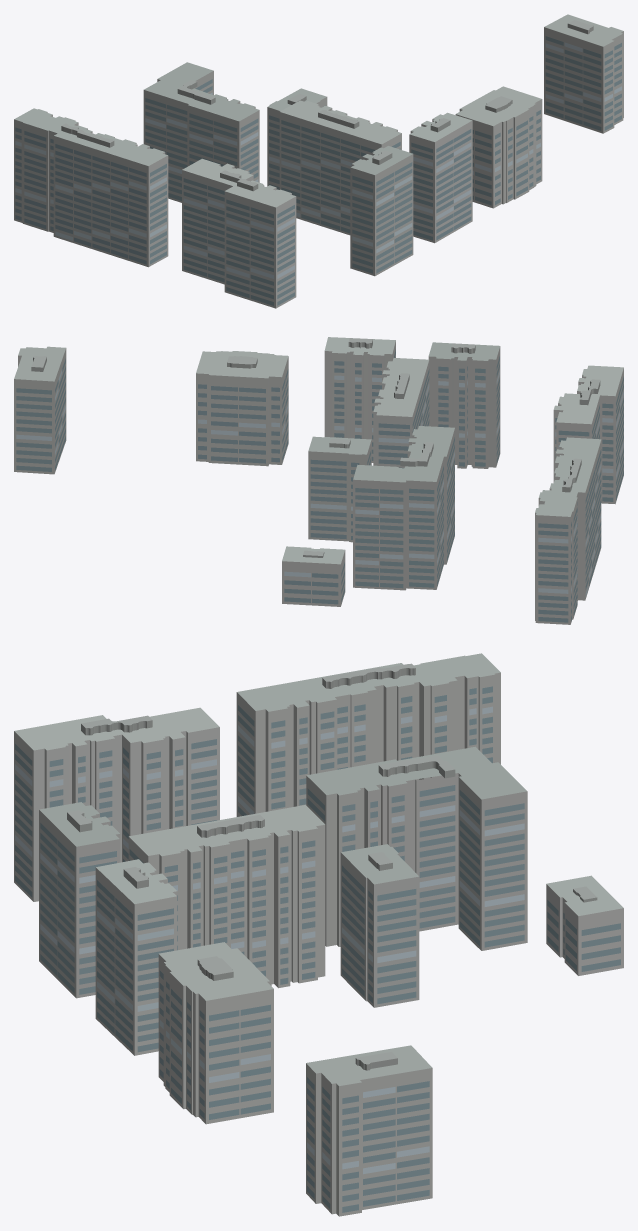
The model's file is apt-a13510103.glb.
3 views of the same model, one above another, from view 1: azimuth 30°, elevation 25°; view 2: azimuth 150°, elevation 25°; view 3: azimuth 270°, elevation 25° (orthographic). The views are drawn at different scales.
Parts seen in each view (by area): view 1: apt-a13510103; view 2: apt-a13510103; view 3: apt-a13510103.
Part boxes in pixels (left/top/right/bottom): apt-a13510103: left=14, top=14, right=623, bottom=308; apt-a13510103: left=14, top=337, right=623, bottom=624; apt-a13510103: left=14, top=653, right=623, bottom=1216.
Bounding box in the file's own units: 239 × 43 × 150.
